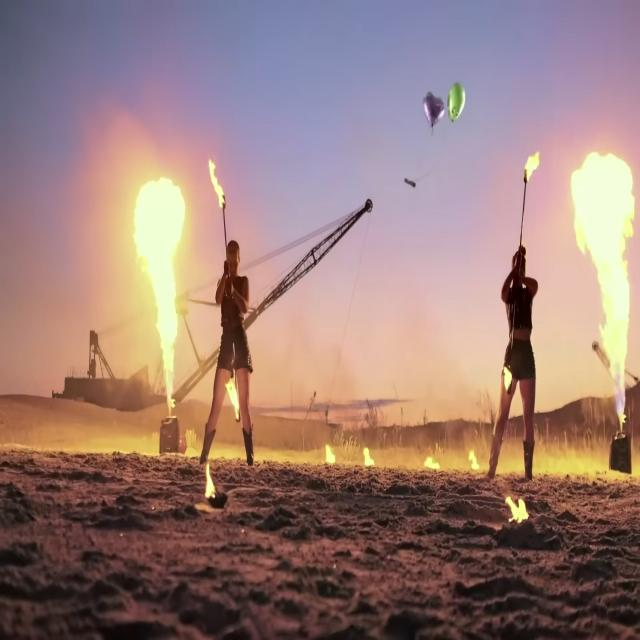balloon: (423, 90, 443, 128), (446, 85, 466, 121)
